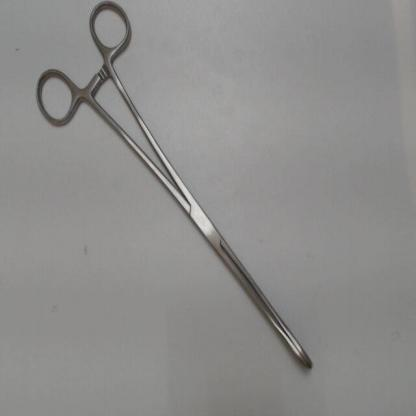Sponge Forceps: (28, 0, 322, 382)
